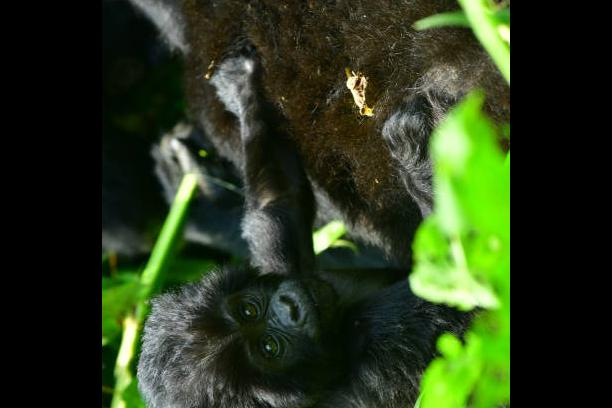goriile_montagne: (130, 218, 427, 408)
